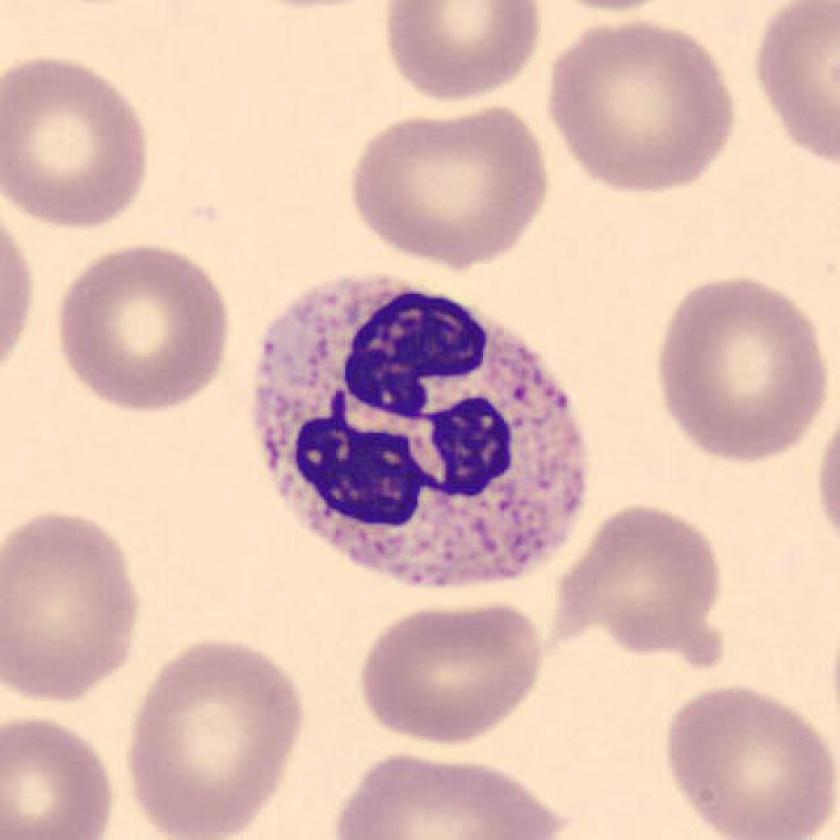neutrophil: (251, 280, 582, 579)
